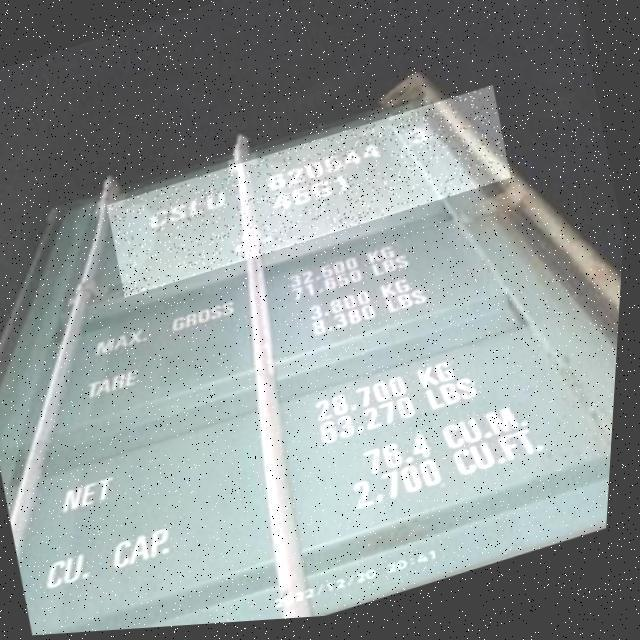container_number_h: (105, 90, 518, 300)
